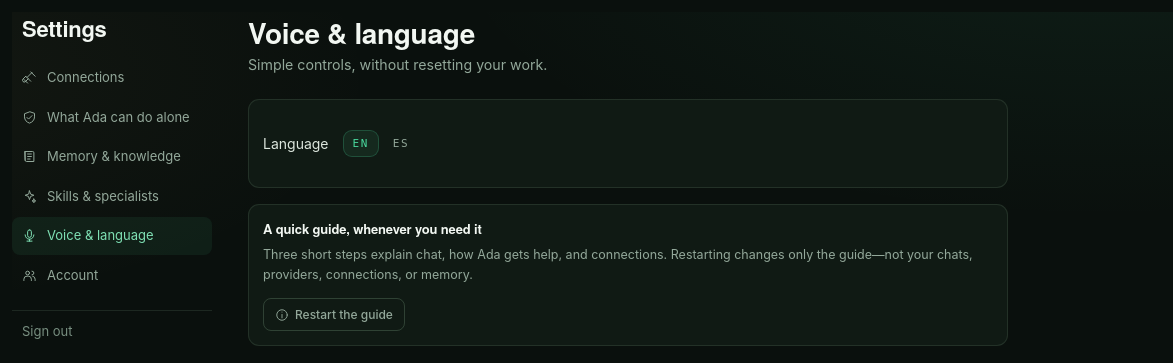
Scenario: resettable guide › restarts the guide from Settings and returns to chat to show it
Click the button "Restart the guide": (334, 315) [263,298,405,331]
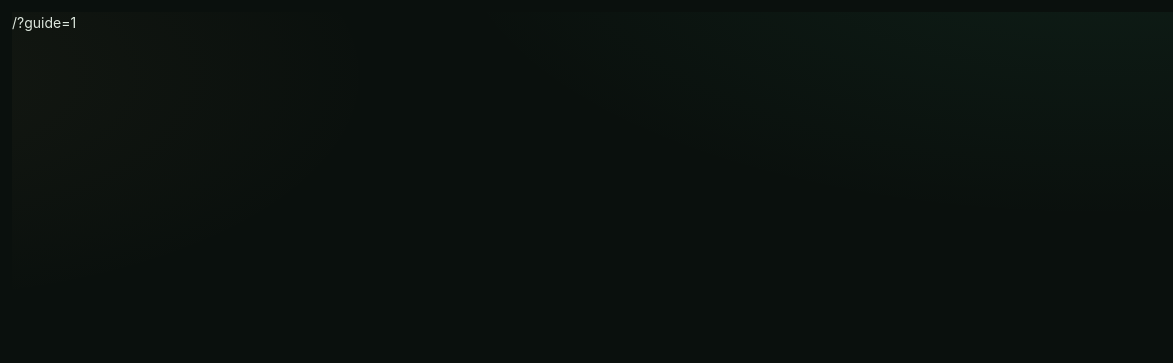
Expected: the text "/?guide=1" is shown, [12,14,76,31]
